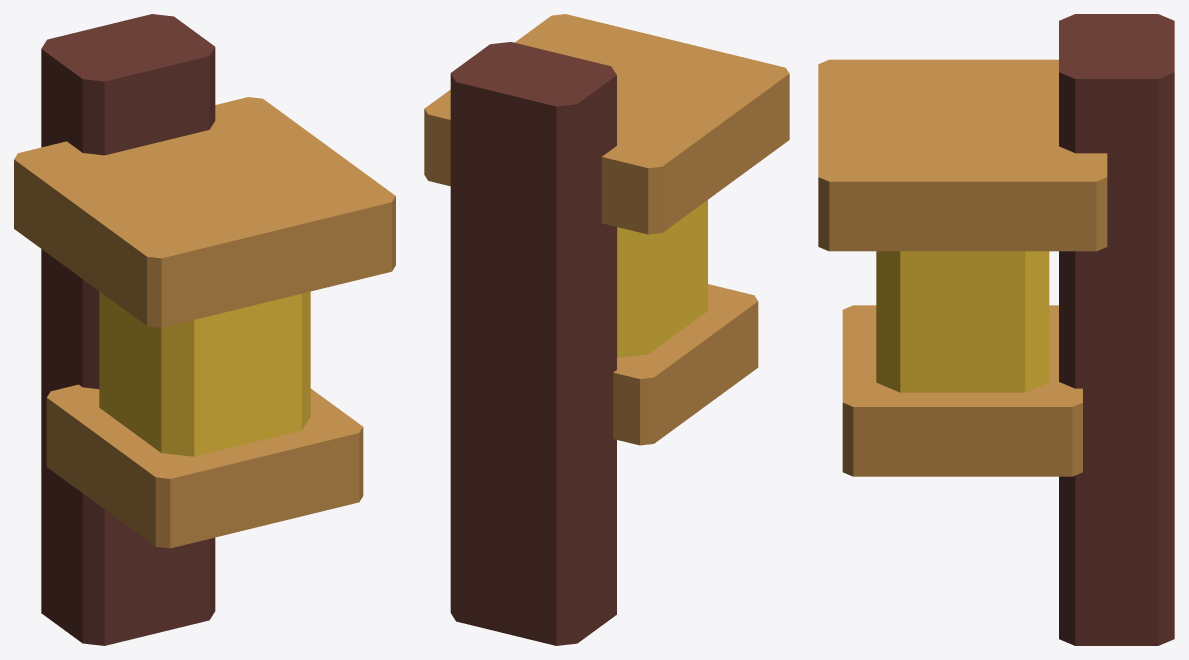
Rendered from Sconce.fbx.
3 renders of one model, left to right at view 1: azimuth 30°, elevation 25°; view 2: azimuth 150°, elevation 25°; view 3: azimuth 270°, elevation 25°, orthographic. The views are drawn at different scales.
Visible parts, largest first — view 1: Sconce.005; view 2: Sconce.005; view 3: Sconce.005.
Boxes of the visible parts, box(x1,y1,x2,y2) form: Sconce.005: box(14, 14, 395, 645); Sconce.005: box(424, 14, 789, 645); Sconce.005: box(818, 14, 1174, 645).
Size of the model in its own units: 30 by 65 by 37.
